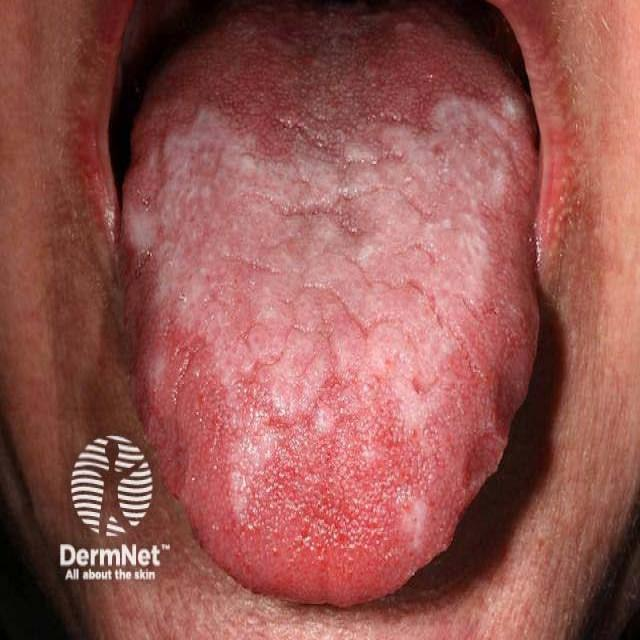leukoplakia-like-detection: (122, 77, 529, 563)
processing_area: (120, 14, 537, 606)
